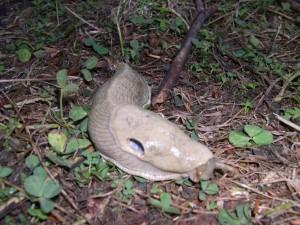slug: (82, 31, 215, 191)
